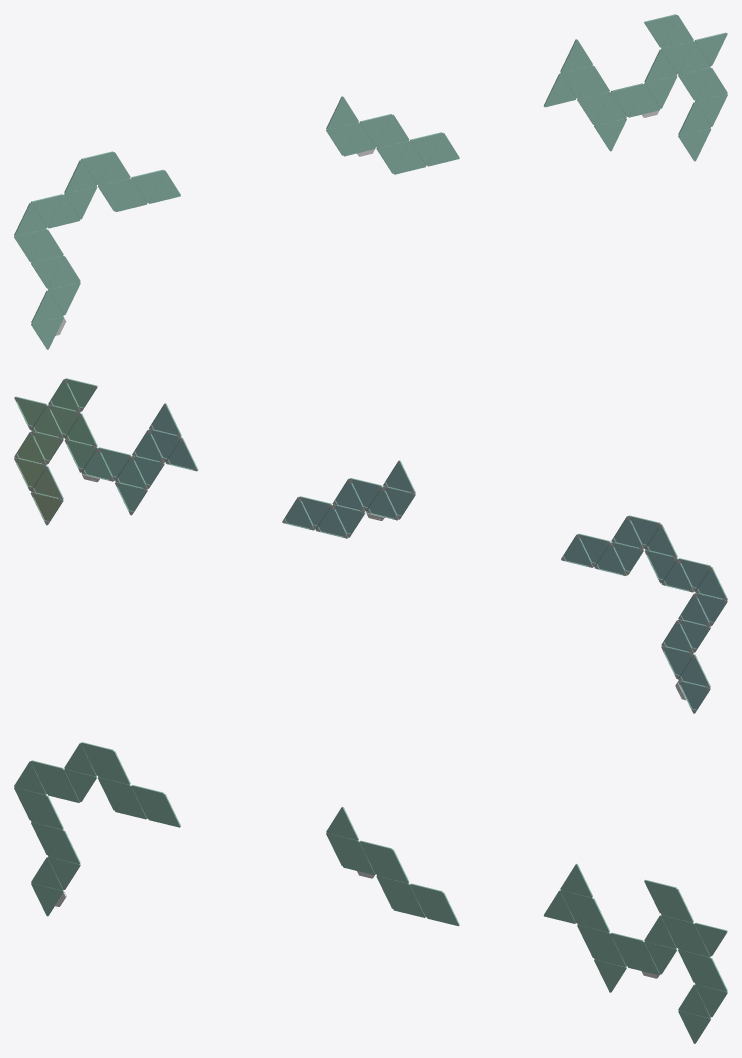
File: ledmaybe2.fbx
3 views of the same model, one above another, from view 1: azimuth 30°, elevation 25°; view 2: azimuth 150°, elevation 25°; view 3: azimuth 330°, elevation 25° (orthographic).
Visible parts, largest first — view 1: Rectangle208, Rectangle193, Rectangle227, Rectangle233, Rectangle195, Rectangle200, Rectangle207, Rectangle221, Rectangle197, Rectangle224, Rectangle222, Rectangle211 (+23 smaller); view 2: Rectangle227, Rectangle208, Rectangle193, Rectangle233, Rectangle195, Rectangle200, Rectangle207, Rectangle221, Rectangle197, Rectangle203, Rectangle224, Rectangle222 (+4 smaller); view 3: Rectangle203, Rectangle223, Rectangle191, Rectangle199, Rectangle229, Rectangle208, Rectangle216, Rectangle195, Rectangle205, Rectangle220, Rectangle212, Rectangle231 (+36 smaller).
Boxes of the visible parts, x1=… form: Rectangle208: x1=326, y1=96, x2=358, y2=129; Rectangle193: x1=543, y1=73, x2=576, y2=107; Rectangle227: x1=14, y1=203, x2=46, y2=236; Rectangle233: x1=31, y1=290, x2=63, y2=324; Rectangle195: x1=560, y1=39, x2=592, y2=72; Rectangle200: x1=644, y1=14, x2=676, y2=47; Rectangle207: x1=678, y1=102, x2=710, y2=135; Rectangle221: x1=64, y1=160, x2=96, y2=193; Rectangle197: x1=644, y1=49, x2=676, y2=82; Rectangle224: x1=30, y1=194, x2=63, y2=227; Rectangle222: x1=81, y1=151, x2=113, y2=184; Rectangle211: x1=359, y1=114, x2=392, y2=147; Rectangle227: x1=695, y1=567, x2=727, y2=600; Rectangle208: x1=383, y1=460, x2=415, y2=493; Rectangle193: x1=165, y1=437, x2=198, y2=471; Rectangle233: x1=678, y1=654, x2=710, y2=688; Rectangle195: x1=149, y1=403, x2=181, y2=436; Rectangle200: x1=65, y1=378, x2=97, y2=411; Rectangle207: x1=31, y1=466, x2=63, y2=499; Rectangle221: x1=645, y1=524, x2=677, y2=557; Rectangle197: x1=65, y1=413, x2=97, y2=446; Rectangle203: x1=14, y1=396, x2=46, y2=429; Rectangle224: x1=678, y1=558, x2=711, y2=591; Rectangle222: x1=628, y1=515, x2=660, y2=548; Rectangle203: x1=694, y1=922, x2=727, y2=956; Rectangle223: x1=98, y1=751, x2=130, y2=784; Rectangle191: x1=577, y1=898, x2=609, y2=932; Rectangle199: x1=661, y1=888, x2=693, y2=922; Rectangle229: x1=31, y1=795, x2=63, y2=829; Rectangle208: x1=326, y1=806, x2=358, y2=840; Rectangle216: x1=427, y1=892, x2=459, y2=926; Rectangle195: x1=560, y1=864, x2=592, y2=897; Rectangle205: x1=695, y1=958, x2=727, y2=991; Rectangle220: x1=148, y1=794, x2=180, y2=827; Rectangle212: x1=376, y1=849, x2=409, y2=883; Rectangle231: x1=48, y1=830, x2=80, y2=864.
Size of the model in its own units: 514 by 125 by 1.78.
